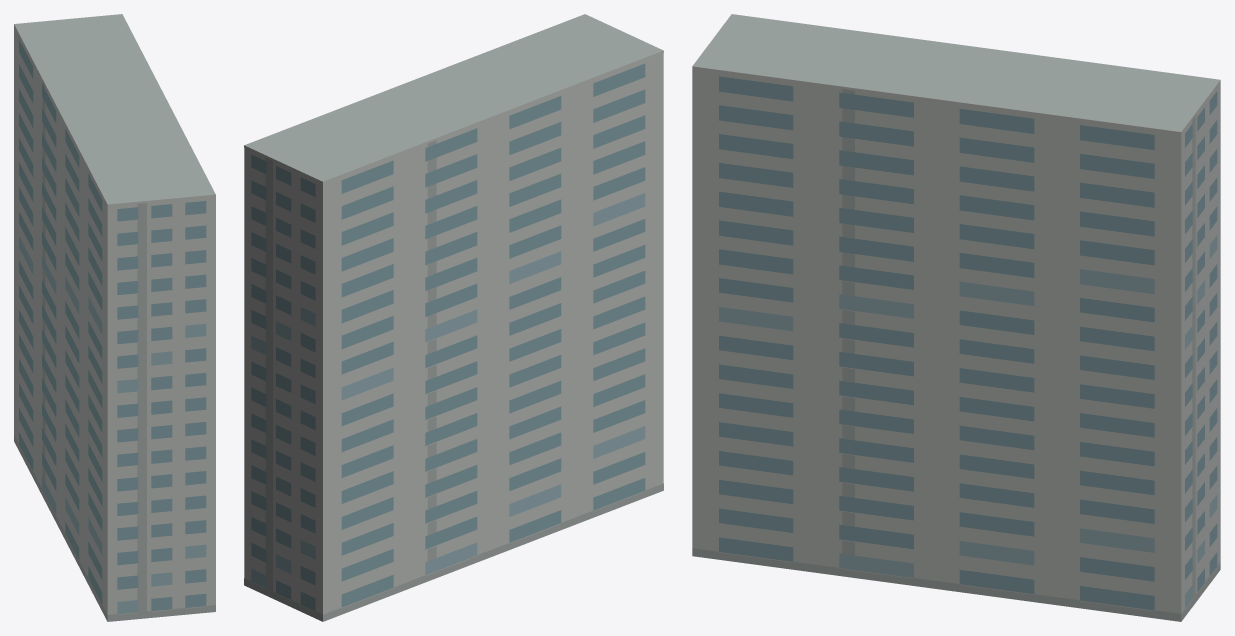
Rendered from residential-e1477469-d84b-4695-91e0-5e1a13e42369.glb.
3 renders of one model, left to right at view 1: azimuth 30°, elevation 25°; view 2: azimuth 150°, elevation 25°; view 3: azimuth 270°, elevation 25°, orthographic. The views are drawn at different scales.
Parts seen in each view (by area): view 1: residential-e1477469-d84b-4695-91e0-5e1a13e42369.tmp; view 2: residential-e1477469-d84b-4695-91e0-5e1a13e42369.tmp; view 3: residential-e1477469-d84b-4695-91e0-5e1a13e42369.tmp.
Part boxes in pixels (x1,y1,x2,y2): residential-e1477469-d84b-4695-91e0-5e1a13e42369.tmp: (14, 14, 215, 621); residential-e1477469-d84b-4695-91e0-5e1a13e42369.tmp: (244, 14, 663, 621); residential-e1477469-d84b-4695-91e0-5e1a13e42369.tmp: (692, 14, 1220, 621).
Size of the model in its own units: 24.85 by 48 by 46.95.
